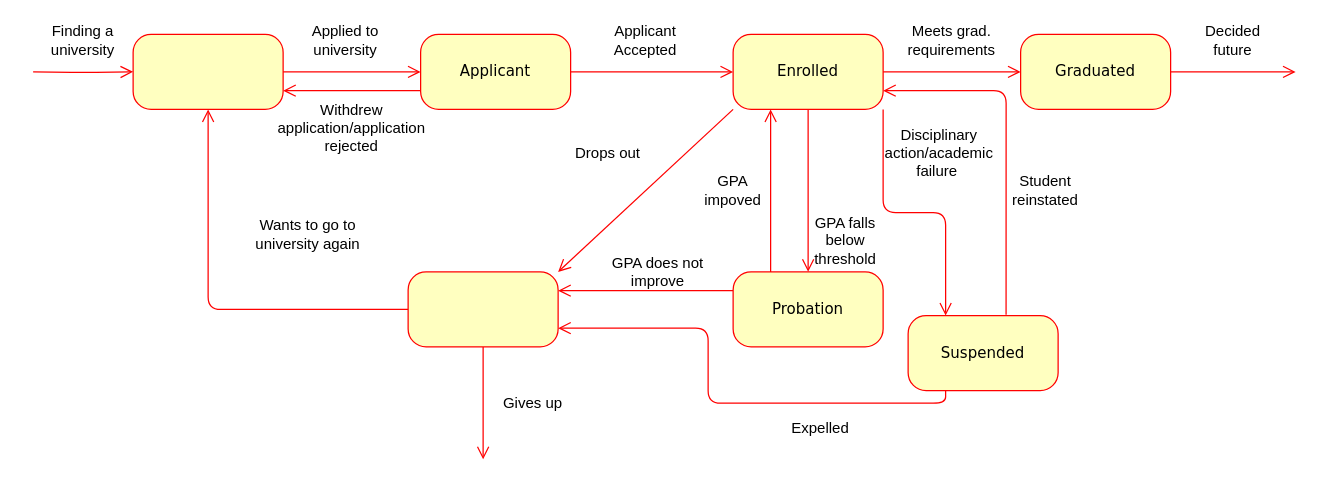
Some shapes in this 1330 by 494 pixel diagram are drawn without their labels. Each missing label, with the centre of its shape:
"Prospective" goes at point (207, 71).
"Withdrawn" goes at point (482, 309).
